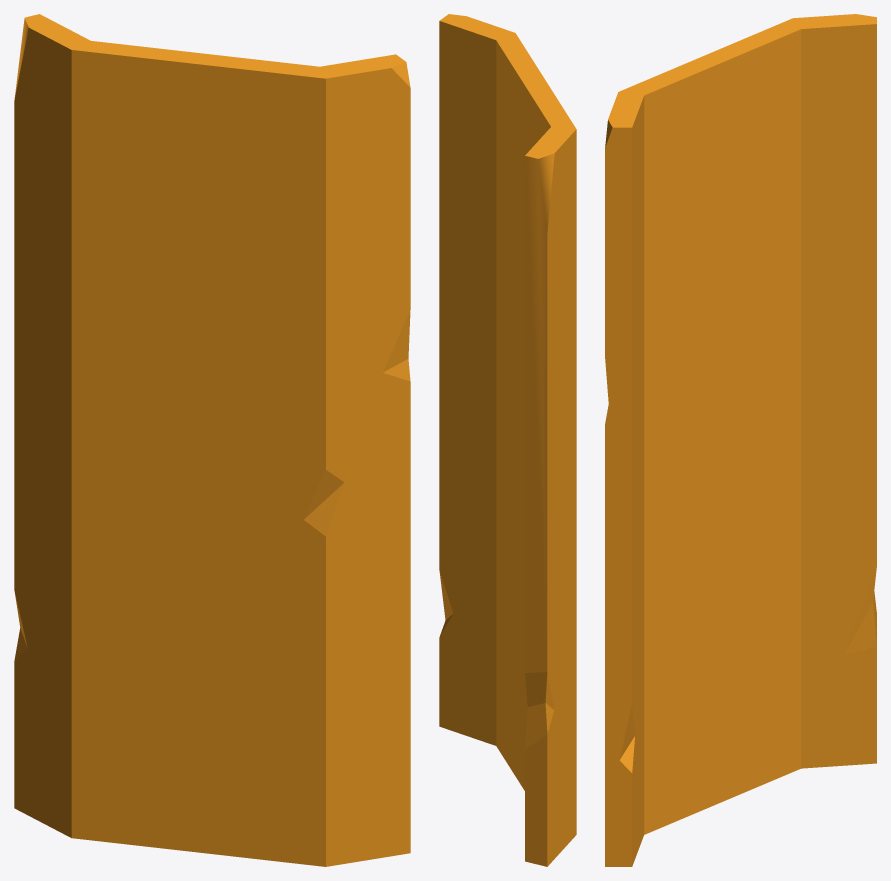
The model's file is SM_Buildings_WallChamfered_1x1_01P.fbx.
3 views of the same model, side by side, from view 1: azimuth 30°, elevation 25°; view 2: azimuth 150°, elevation 25°; view 3: azimuth 270°, elevation 25° (orthographic). The views are drawn at different scales.
Parts seen in each view (by area): view 1: SM_Buildings_WallChamfered_1x1_01P; view 2: SM_Buildings_WallChamfered_1x1_01P; view 3: SM_Buildings_WallChamfered_1x1_01P.
Boxes of the visible parts, left/top/right/bottom form: SM_Buildings_WallChamfered_1x1_01P: left=14, top=14, right=410, bottom=866; SM_Buildings_WallChamfered_1x1_01P: left=439, top=14, right=576, bottom=866; SM_Buildings_WallChamfered_1x1_01P: left=605, top=14, right=876, bottom=866.
Size of the model in its own units: 100 by 300 by 100.
